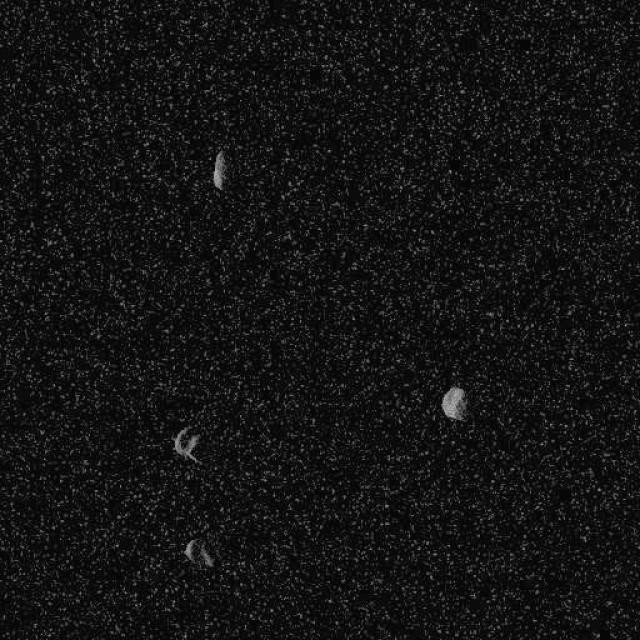D2: (172, 424, 202, 464), (183, 538, 215, 570), (440, 385, 468, 421), (211, 150, 225, 190)
